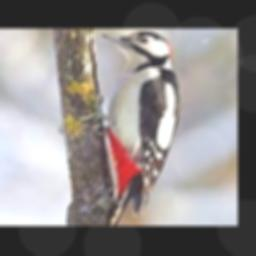Woodpecker: (86, 31, 181, 226)
